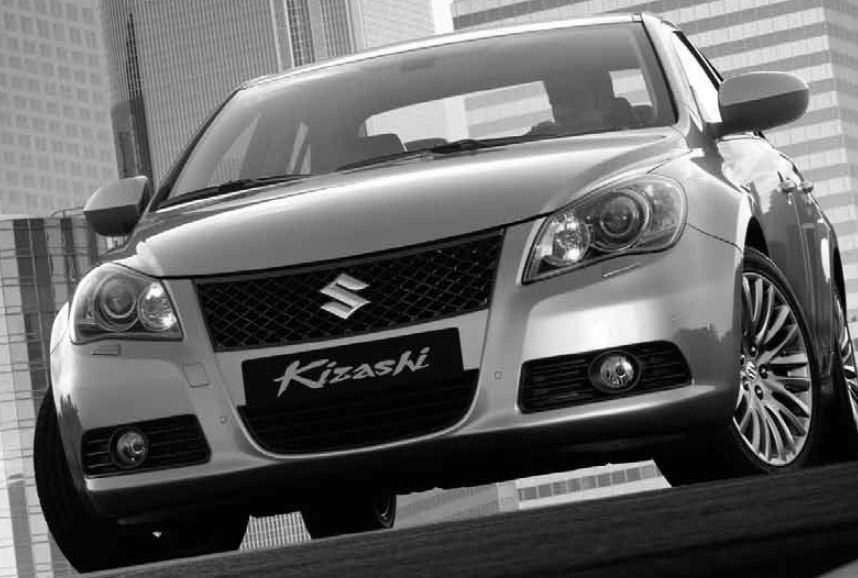car: (31, 7, 854, 575)
